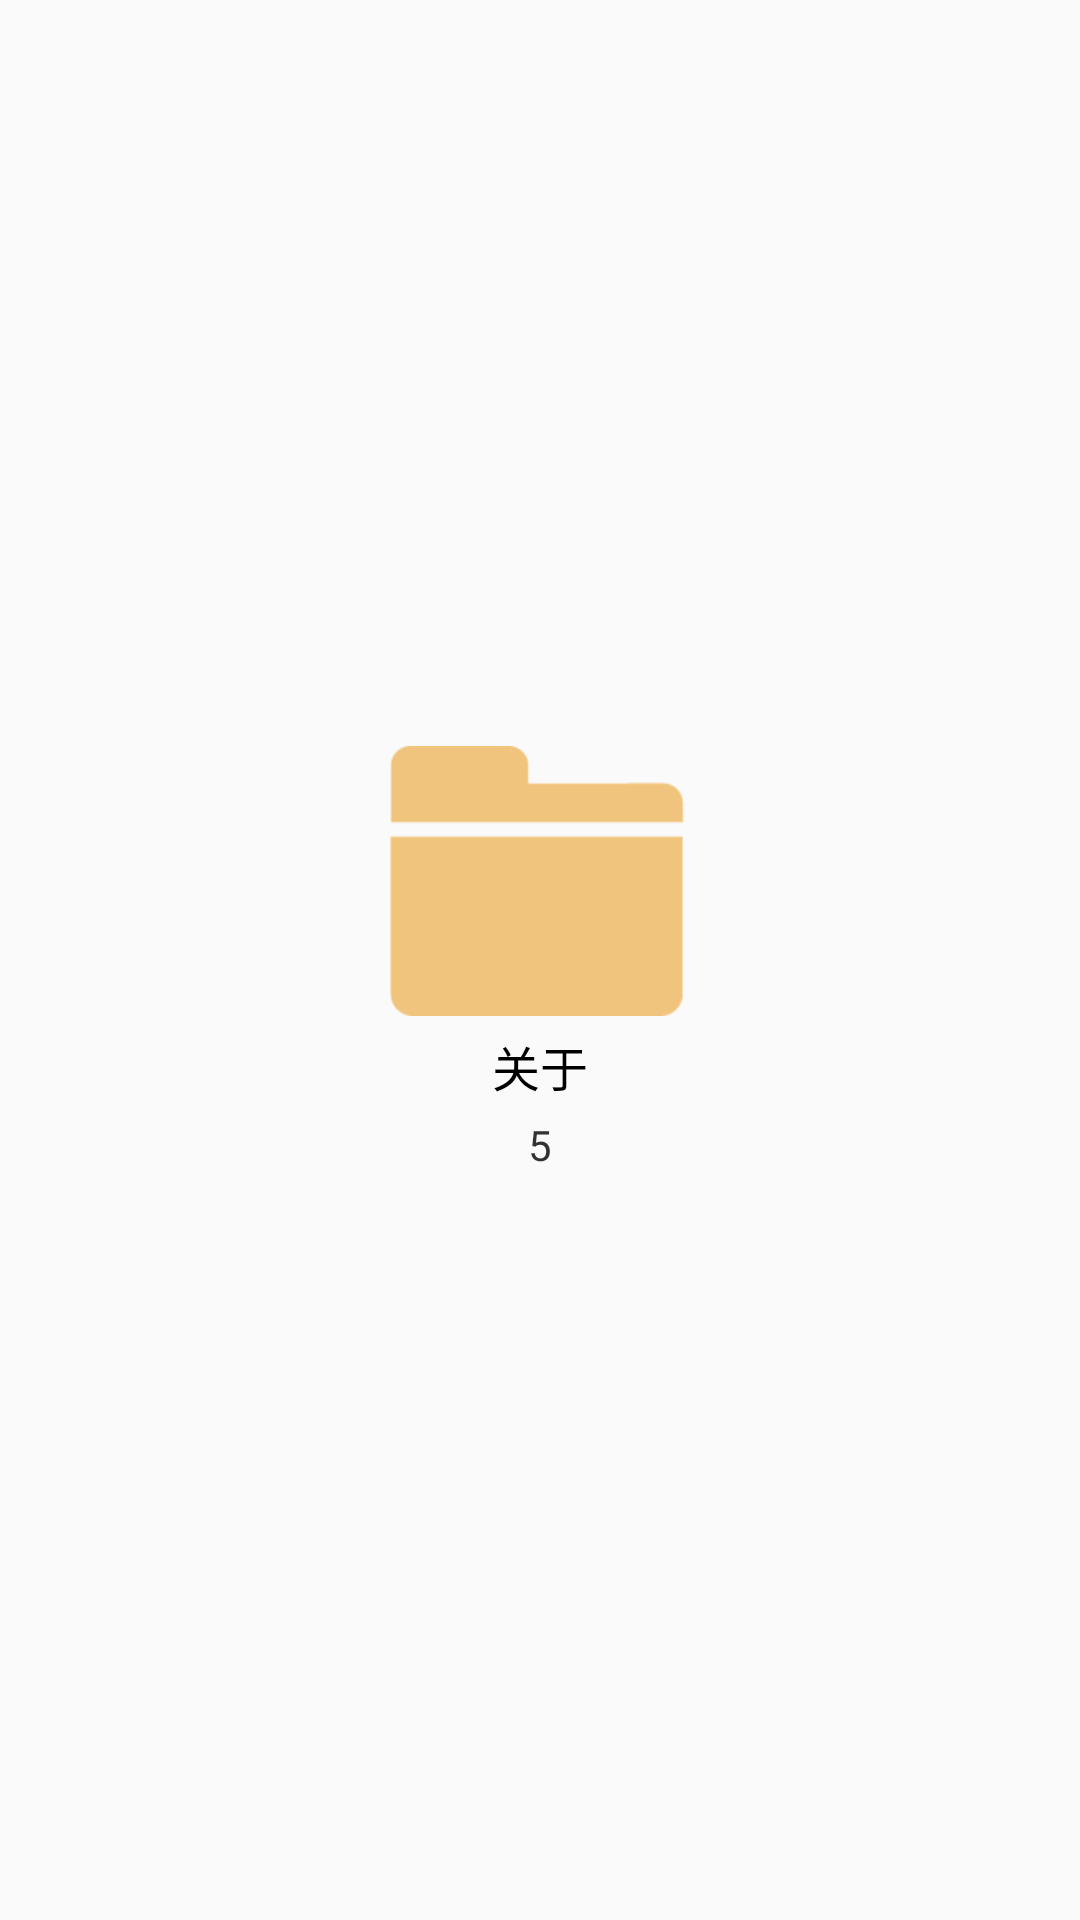

Icons on this 1080px x 1920px Android screen, each with its box as (left=x1, top=y1, right=x2, bottom=y2):
fileholder: (left=390, top=746, right=684, bottom=1016)
